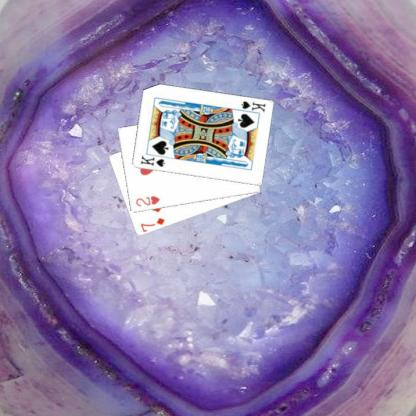2H: (133, 193, 161, 208)
7D: (138, 215, 166, 232)
KS: (235, 98, 266, 116), (138, 154, 166, 168)
